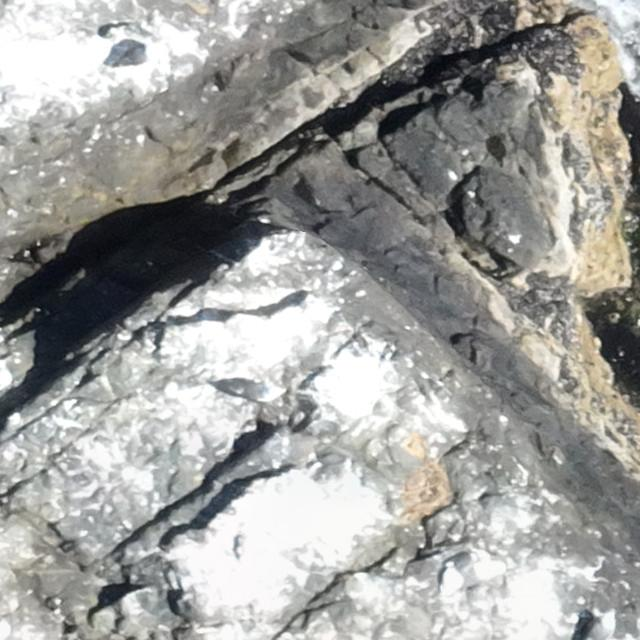umineko: (438, 563, 502, 593), (223, 377, 285, 404), (113, 39, 157, 70)
